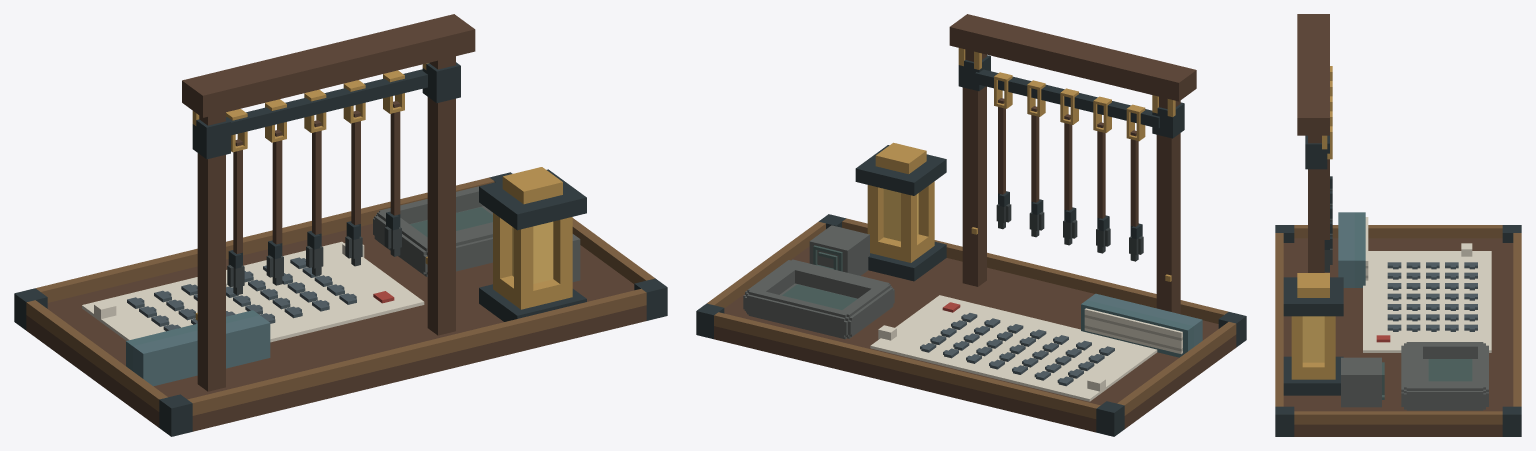
File: LIFE-171.glb
3 views of the same model, side by side, from view 1: azimuth 30°, elevation 25°; view 2: azimuth 150°, elevation 25°; view 3: azimuth 270°, elevation 25° (orthographic). The views are drawn at different scales.
Parts seen in each view (by area): view 1: 书法纸砚及笔架; view 2: 书法纸砚及笔架; view 3: 书法纸砚及笔架.
Part boxes in pixels (box(x1,y1,x2,y2)): 书法纸砚及笔架: box(14, 14, 667, 436); 书法纸砚及笔架: box(696, 14, 1246, 436); 书法纸砚及笔架: box(1275, 14, 1521, 436).
Size of the model in its own units: 0.82 by 0.52 by 0.45.
Materials: 15 (15 with a texture image).
